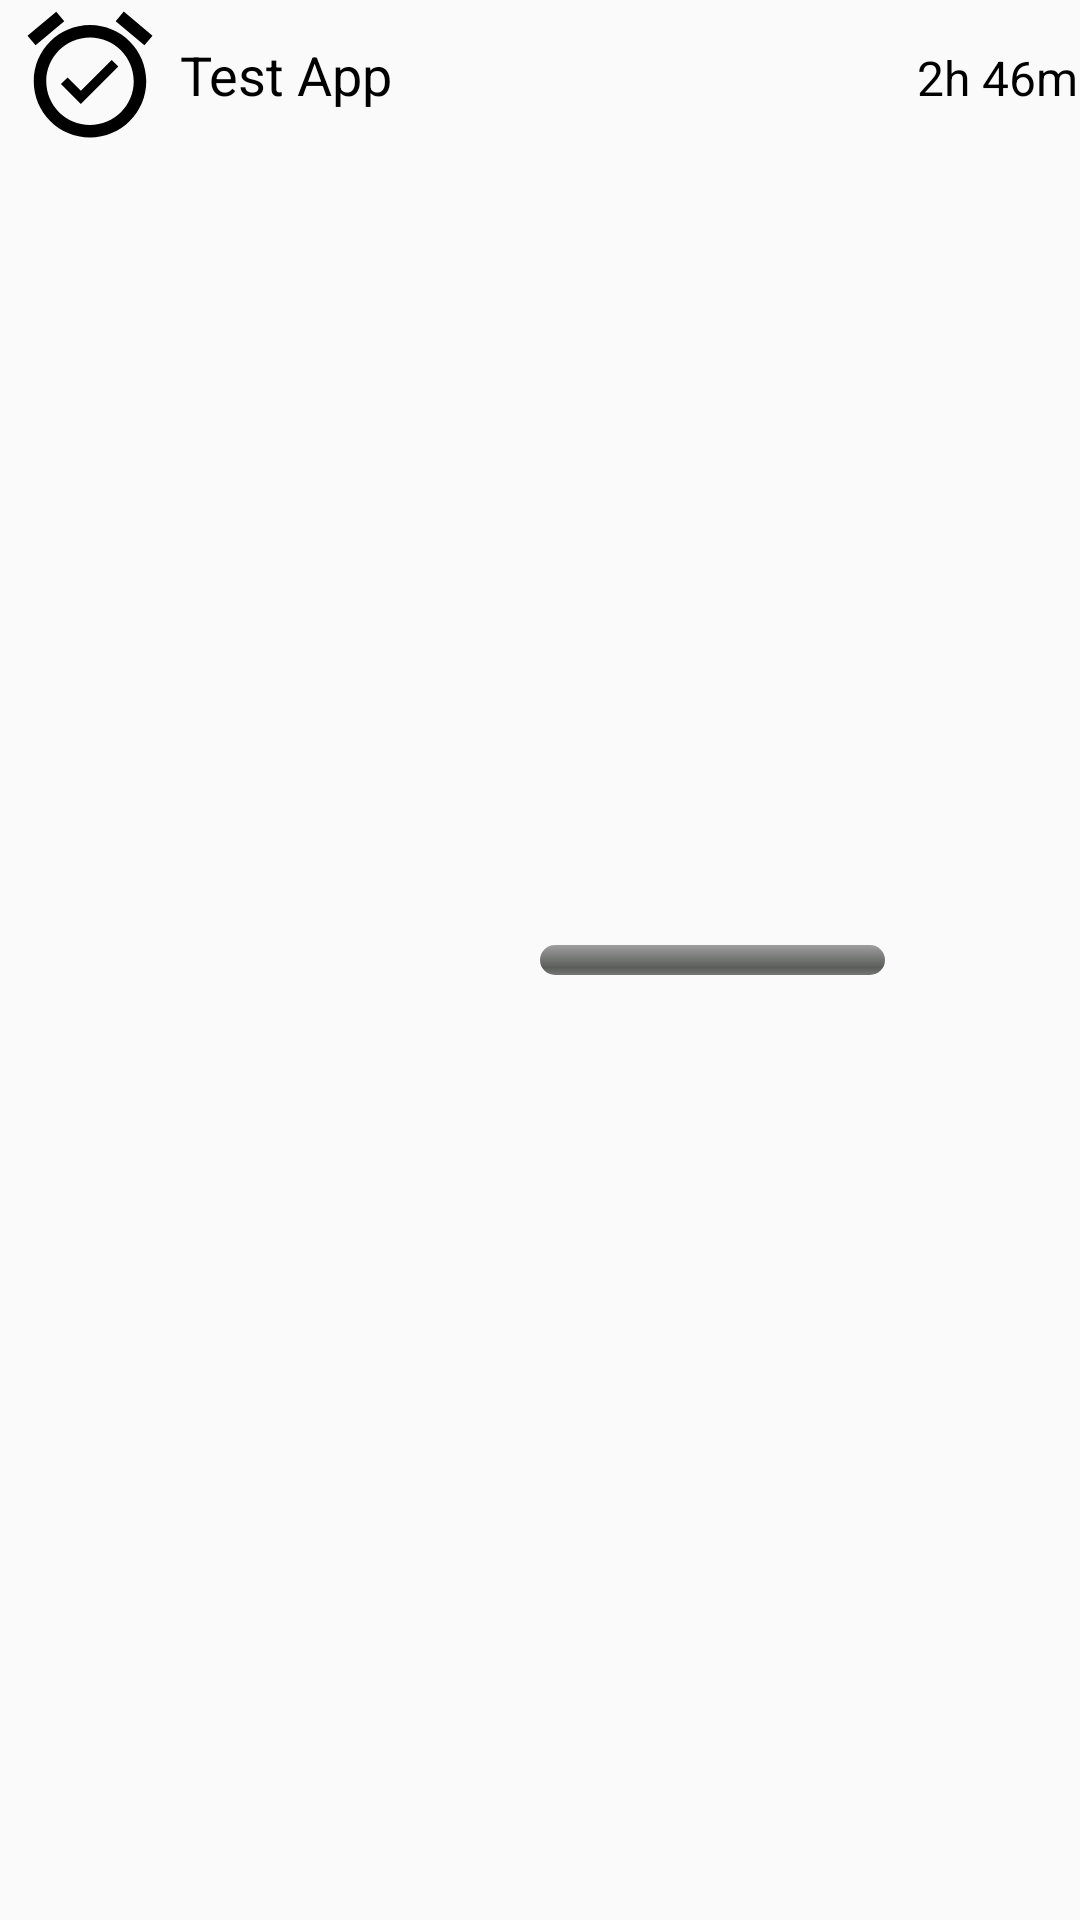

Named icons in this screenshot (1080px×1920px) and their centers, (x=x, y=y):
alarm on: (x=90, y=74)
